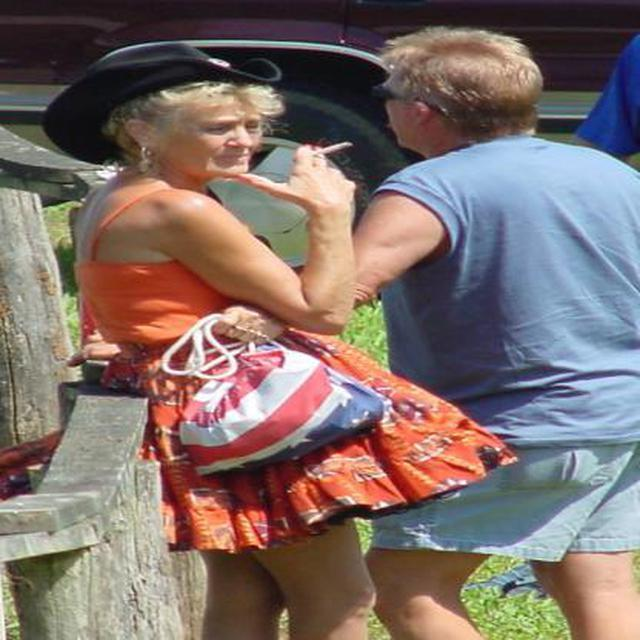smoking: (292, 142, 353, 163)
